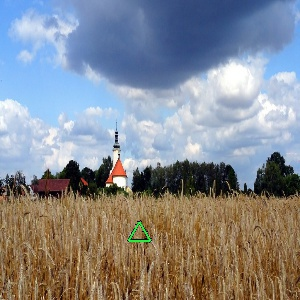triangle: (123, 218, 154, 245)
